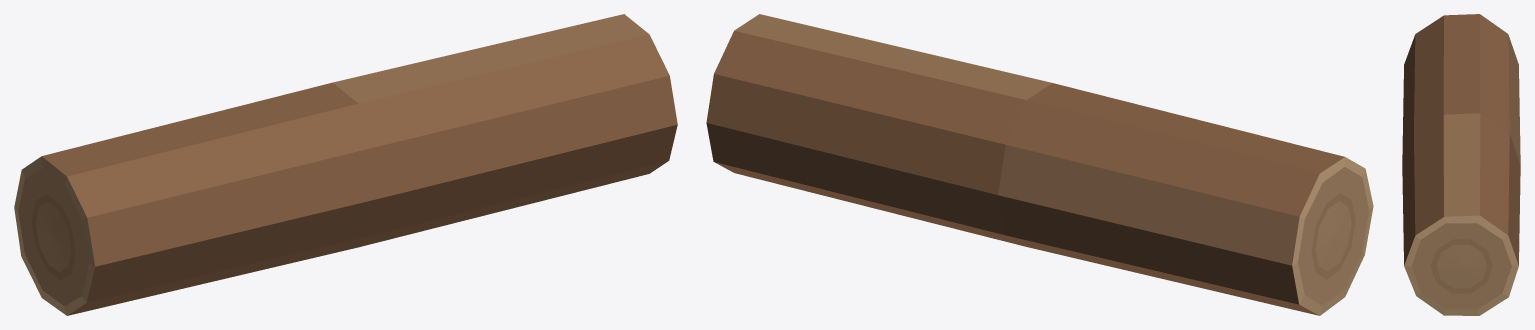
The model's file is Timber_Log.glb.
3 renders of one model, left to right at view 1: azimuth 30°, elevation 25°; view 2: azimuth 150°, elevation 25°; view 3: azimuth 270°, elevation 25°, orthographic. The views are drawn at different scales.
Visible parts, largest first — view 1: Timber_Log; view 2: Timber_Log; view 3: Timber_Log.
Boxes of the visible parts, x1,y1,x2,y2 form: Timber_Log: (14,14,677,315); Timber_Log: (706,14,1373,315); Timber_Log: (1402,14,1520,315).
Size of the model in its own units: 1.26 by 0.2997 by 0.3104.
